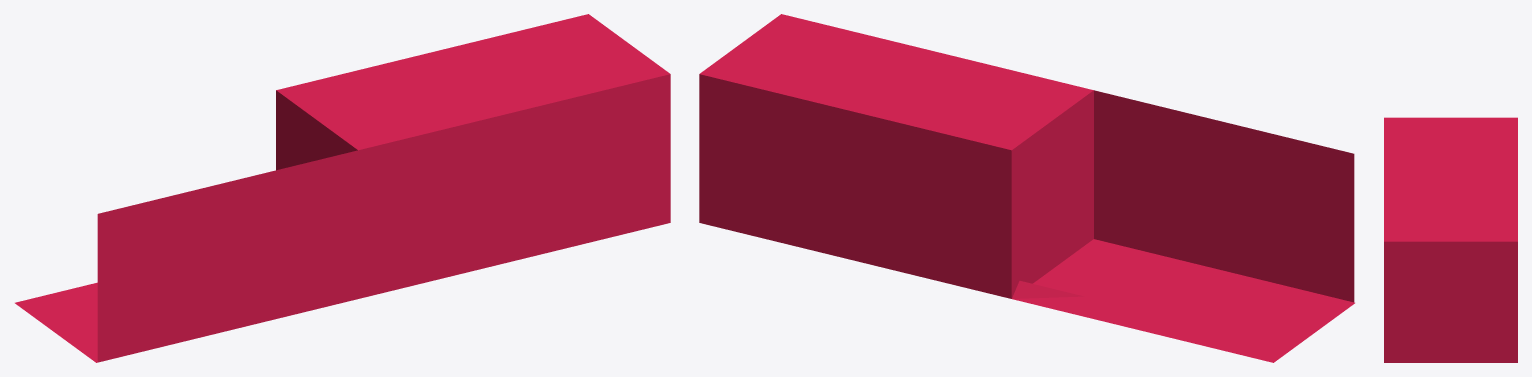
File: first.glb
The picture shows the model from 3 angles, left to right: view 1: azimuth 30°, elevation 25°; view 2: azimuth 150°, elevation 25°; view 3: azimuth 270°, elevation 25°; orthographic projection. The views are drawn at different scales.
Parts seen in each view (by area): view 1: Cube; view 2: Cube; view 3: Cube.
Part boxes in pixels (x1,y1,x2,y2): Cube: (15, 14, 670, 362); Cube: (699, 14, 1354, 362); Cube: (1384, 117, 1517, 362).
Bounding box in the file's own units: 8.08 × 2 × 2.
